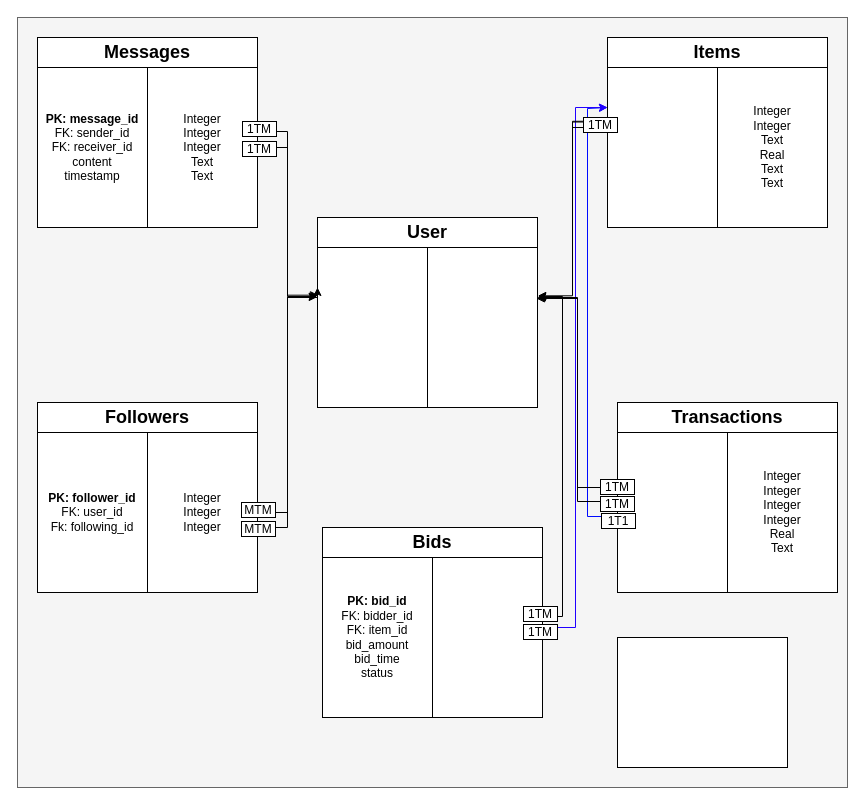
Some shapes in this 865 by 805 pixel diagram are drawn without their labels. Here are the shapes that lost their labels. From the top down, the box of each, then its label:
(606, 66, 718, 228): PK: item_id FK: seller_id title price image status
(316, 246, 428, 408): PK: user_id username password_hash email profile_pic
(426, 246, 538, 408): Integer Text Text Text Text
(616, 432, 728, 592): PK: transaction_id FK: buyer_id FK: seller_id FK: item_id price status
(432, 556, 542, 718): Integer Integer Integer Real Datetime Text
(616, 636, 788, 768): Relationship Legend: 1TM: One to Many MTM: Many to Many 1T1: One to One
